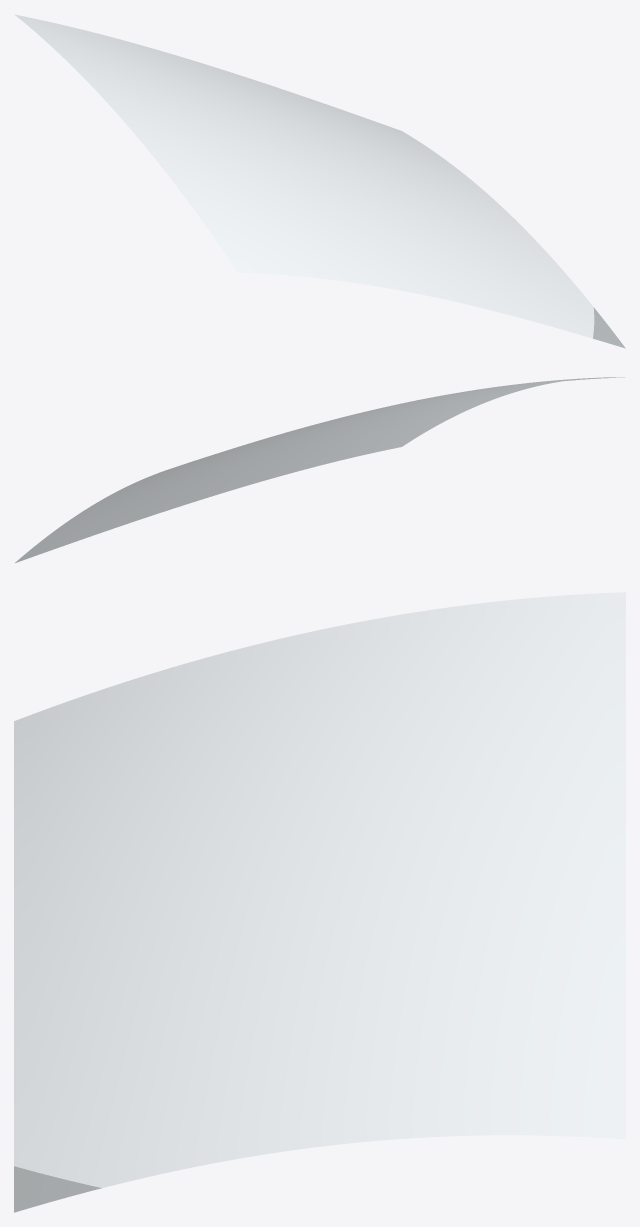
Rendered from alpine-9-7.glb.
3 renders of one model, top to bottom at view 1: azimuth 30°, elevation 25°; view 2: azimuth 150°, elevation 25°; view 3: azimuth 270°, elevation 25°, orthographic. The views are drawn at different scales.
Parts seen in each view (by area): view 1: alpine-9-7; view 2: alpine-9-7; view 3: alpine-9-7.
Boxes of the visible parts, bbox=[...] form: alpine-9-7: bbox=[14, 14, 625, 348]; alpine-9-7: bbox=[15, 377, 624, 562]; alpine-9-7: bbox=[14, 592, 625, 1212].
Size of the model in its own units: 256 by 167 by 256.
2 materials, 2 textured.
